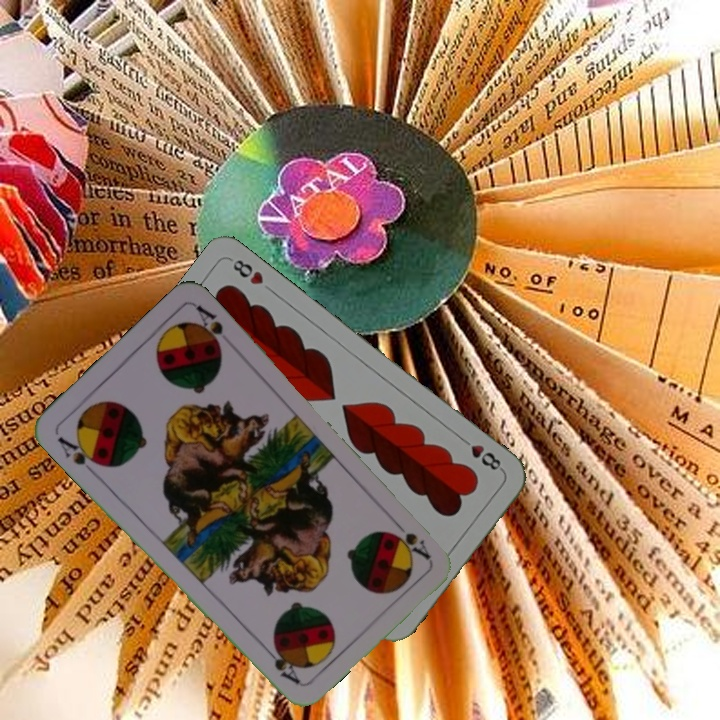H8: (456, 433, 506, 474)
SA: (53, 432, 106, 478), (389, 514, 433, 563)
